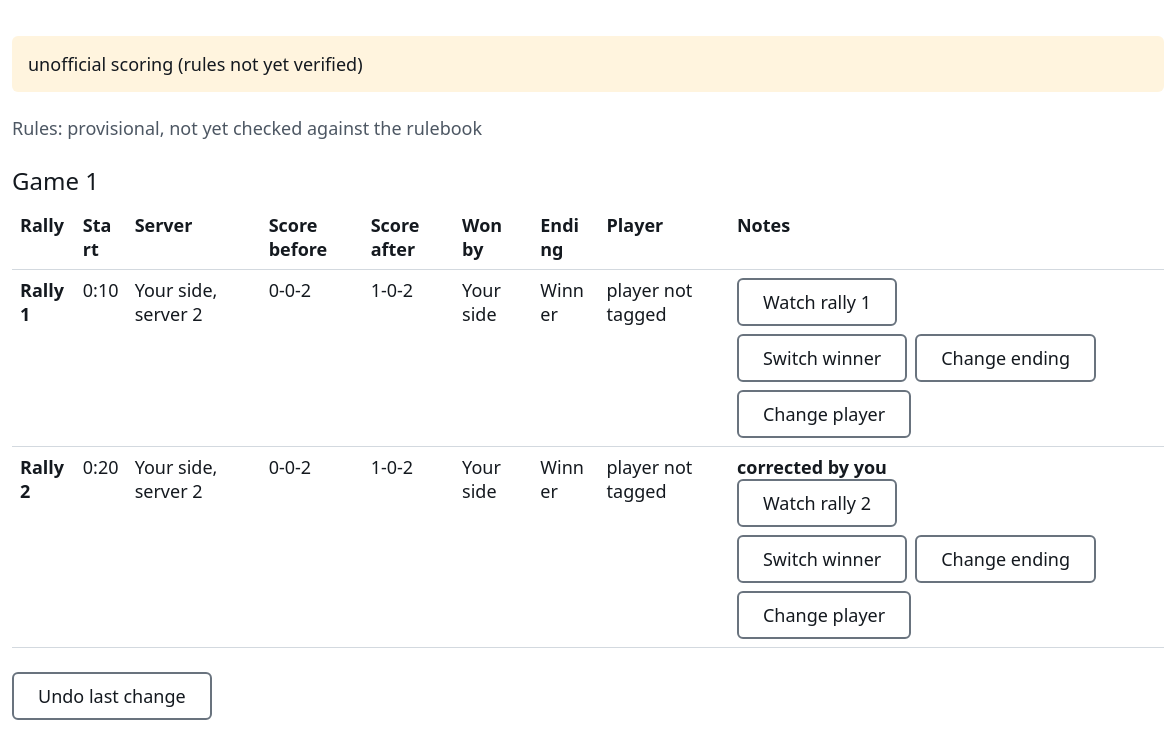
Scenario: ScoreSheetView undo (ST-031) › undo replaces the sheet, reloads the history and announces it
Click the button "Undo last change": (112, 696) [12,672,212,720]
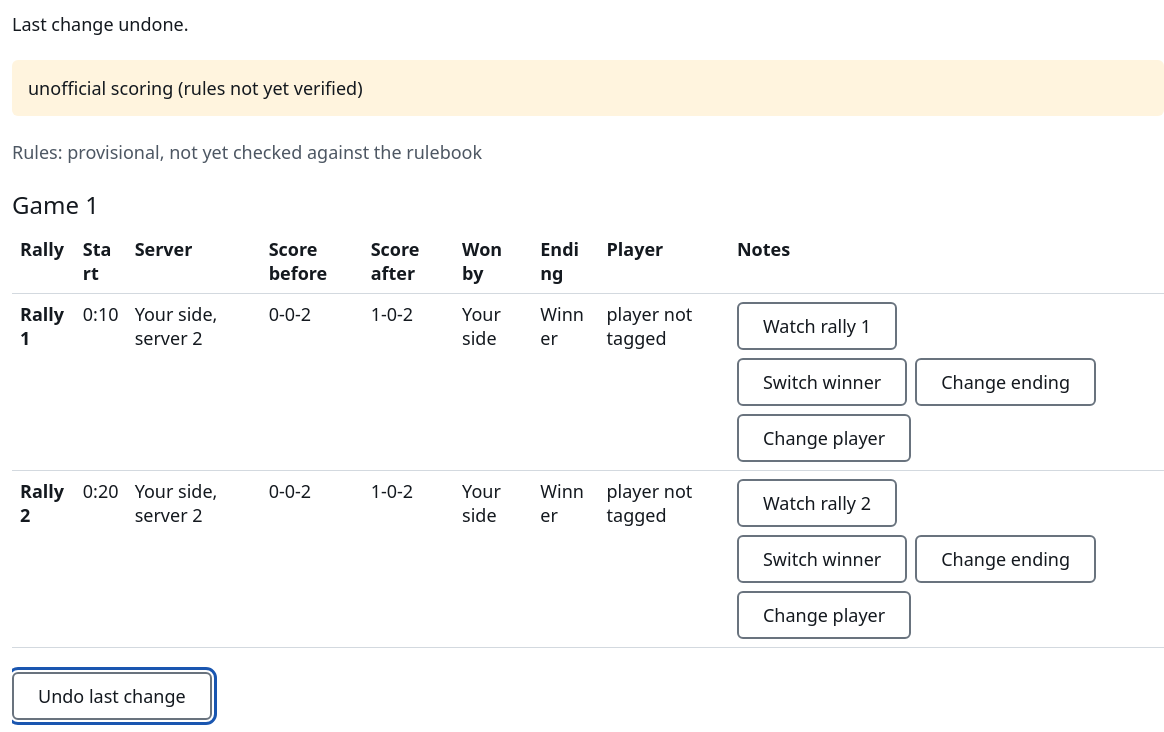
Now the text "corrected by you" is gone
Now the message reads "Last change undone.", box [12,12,188,36]
